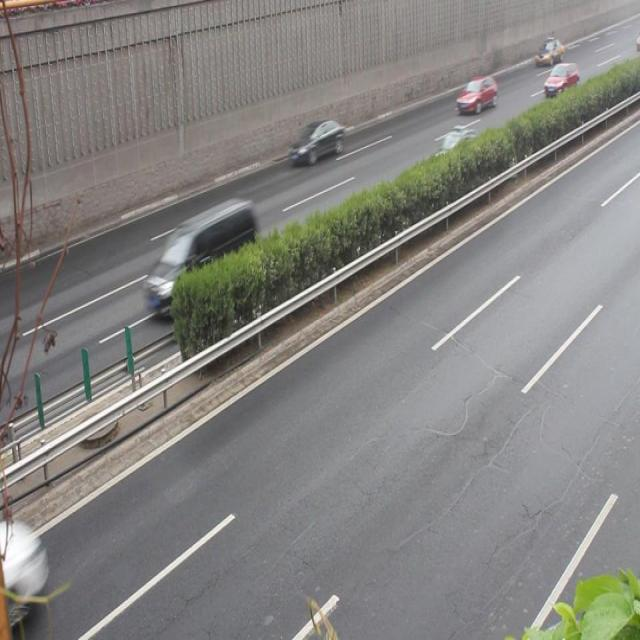car: (423, 127, 482, 185), (287, 117, 342, 166), (454, 72, 495, 114), (541, 61, 576, 97)
